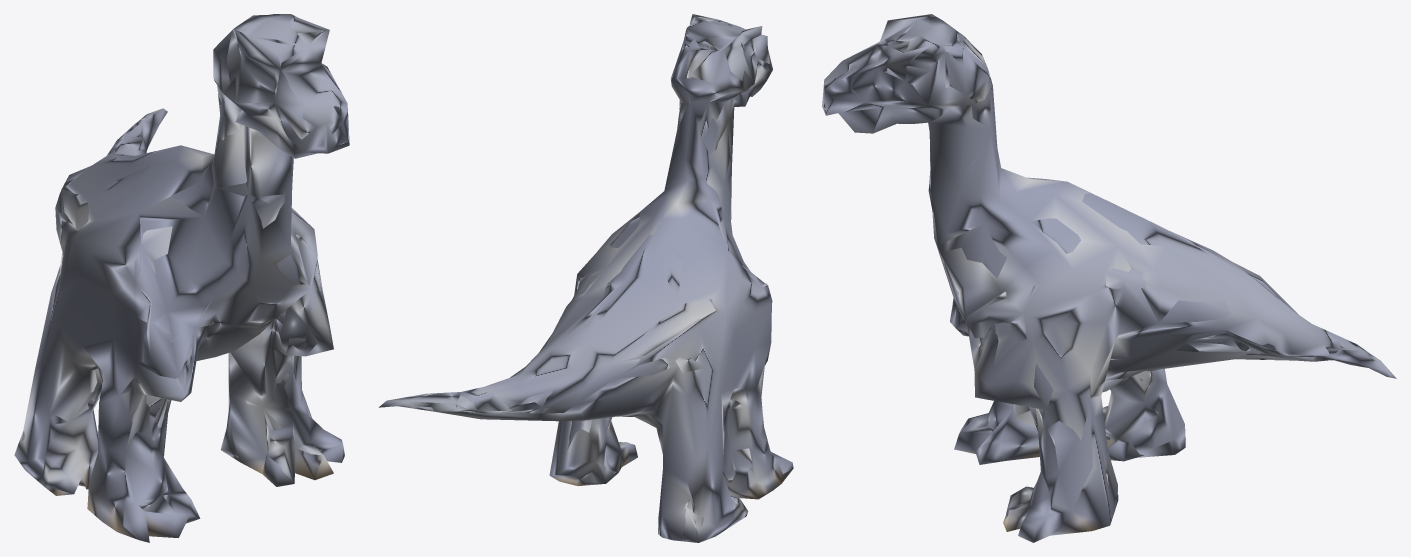
The model's file is gen3d-brontosaurus-lod0.glb.
3 renders of one model, left to right at view 1: azimuth 30°, elevation 25°; view 2: azimuth 150°, elevation 25°; view 3: azimuth 270°, elevation 25°, orthographic. The views are drawn at different scales.
Parts seen in each view (by area): view 1: part_0; view 2: part_0; view 3: part_0.
Boxes of the visible parts, left/top/right/bottom form: part_0: left=14, top=14, right=349, bottom=542; part_0: left=379, top=14, right=793, bottom=542; part_0: left=822, top=14, right=1396, bottom=542.
Bounding box in the file's own units: 0.5759 × 0.9967 × 1.13.
